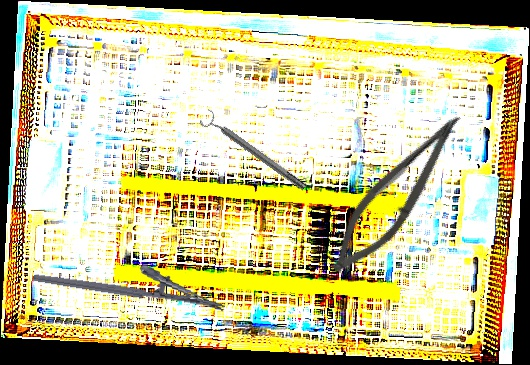Fixation Ring: (197, 107, 311, 197)
Micro Scissor: (318, 97, 474, 288)
Needle Holder: (32, 247, 230, 313)
